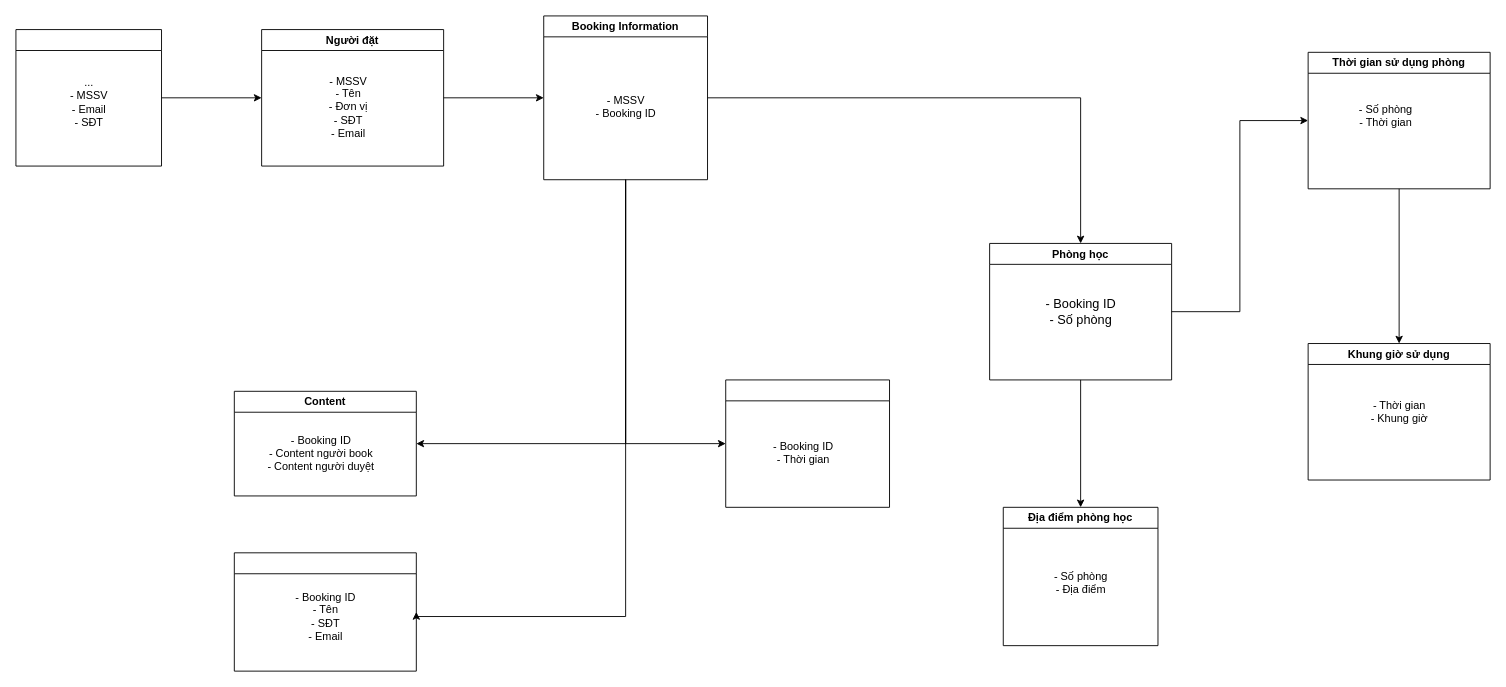
This 1506x687 diagram has some shape labels left out. The box of each missing label's shape, as (x1, y1, x2, y2) in pixels:
Người duyệt: (233, 552, 416, 671)
Thời gian gửi yêu cầu: (725, 379, 890, 507)
User profile: (15, 29, 162, 166)
